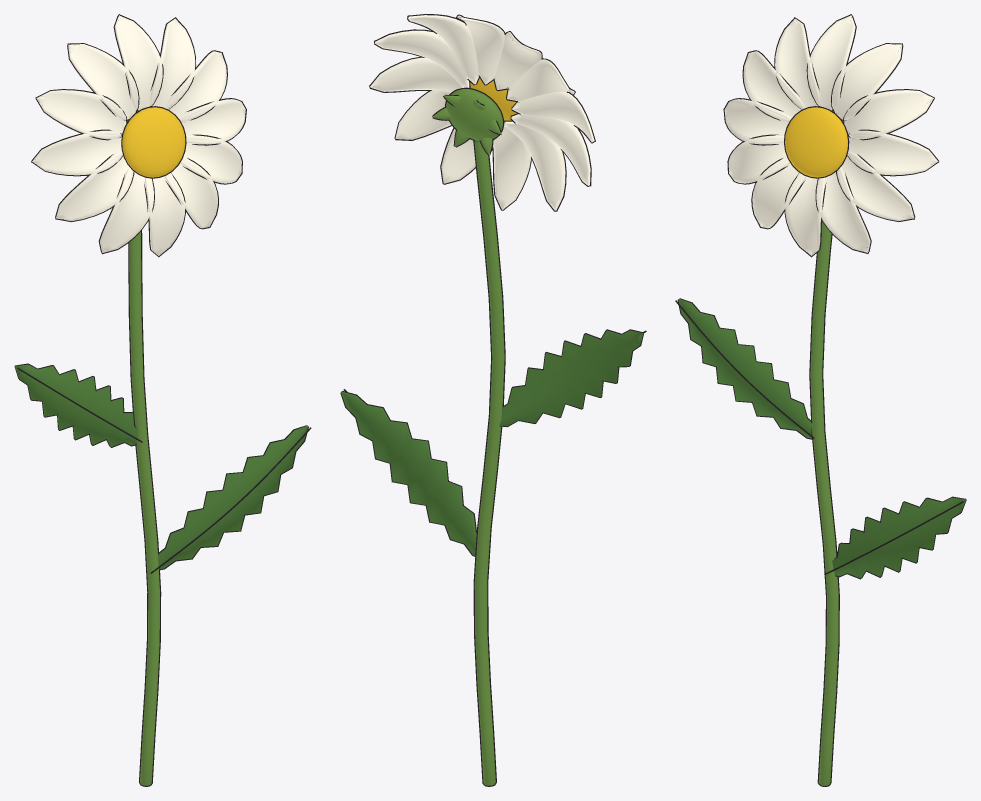
The model's file is daisy_toon.glb.
3 views of the same model, side by side, from view 1: azimuth 30°, elevation 25°; view 2: azimuth 150°, elevation 25°; view 3: azimuth 330°, elevation 25° (orthographic). The views are drawn at different scales.
Parts seen in each view (by area): view 1: daisy_Geometry; view 2: daisy_Geometry; view 3: daisy_Geometry.
Boxes of the visible parts, x1,y1,x2,y2 form: daisy_Geometry: (14,14,311,786); daisy_Geometry: (340,14,646,786); daisy_Geometry: (675,14,966,786).
Size of the model in its own units: 0.2098 by 0.5181 by 0.0631.
